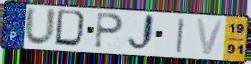D: (53, 8, 90, 50)
I: (175, 17, 187, 55)
J: (126, 13, 156, 54)
P: (93, 11, 125, 50)
U: (23, 6, 58, 49)
V: (195, 17, 227, 56)
